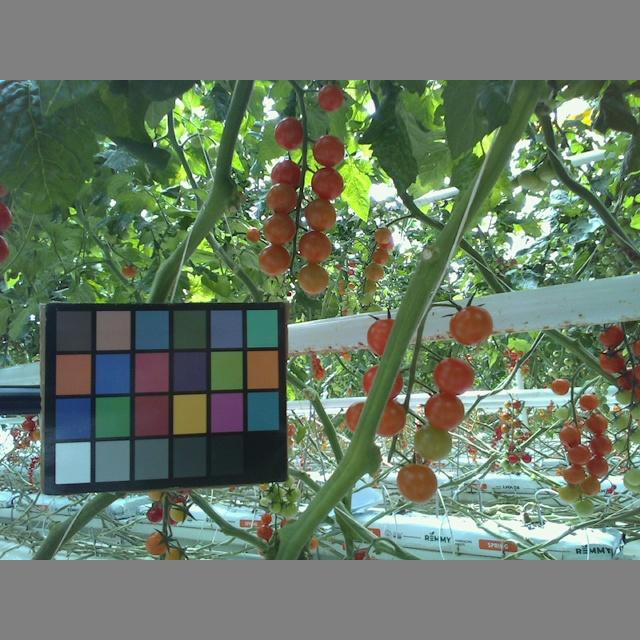green: (413, 425, 452, 462), (557, 479, 582, 502), (575, 498, 596, 515)
pink: (432, 354, 477, 397), (450, 306, 494, 345), (394, 463, 435, 502), (366, 399, 407, 435), (367, 317, 403, 357), (271, 114, 306, 153), (423, 393, 464, 426), (256, 245, 293, 278), (297, 231, 332, 265), (311, 167, 346, 200), (271, 160, 304, 194), (266, 181, 298, 216), (306, 196, 337, 232), (262, 212, 296, 244), (297, 261, 328, 296), (313, 136, 346, 167), (318, 81, 346, 110), (599, 350, 626, 376), (596, 322, 623, 347), (582, 456, 611, 478), (146, 530, 172, 554), (570, 441, 593, 466), (582, 412, 609, 433), (591, 433, 612, 458), (559, 426, 580, 448), (563, 462, 586, 481), (363, 261, 383, 282), (167, 502, 187, 522), (370, 247, 390, 265), (375, 223, 391, 245), (580, 391, 598, 410), (551, 377, 570, 394)
red: (144, 503, 164, 523)
